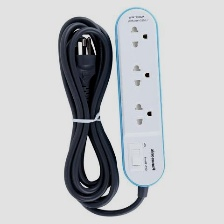three_eye_plug: (113, 6, 167, 188)
